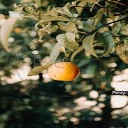orange: (46, 60, 83, 83)
